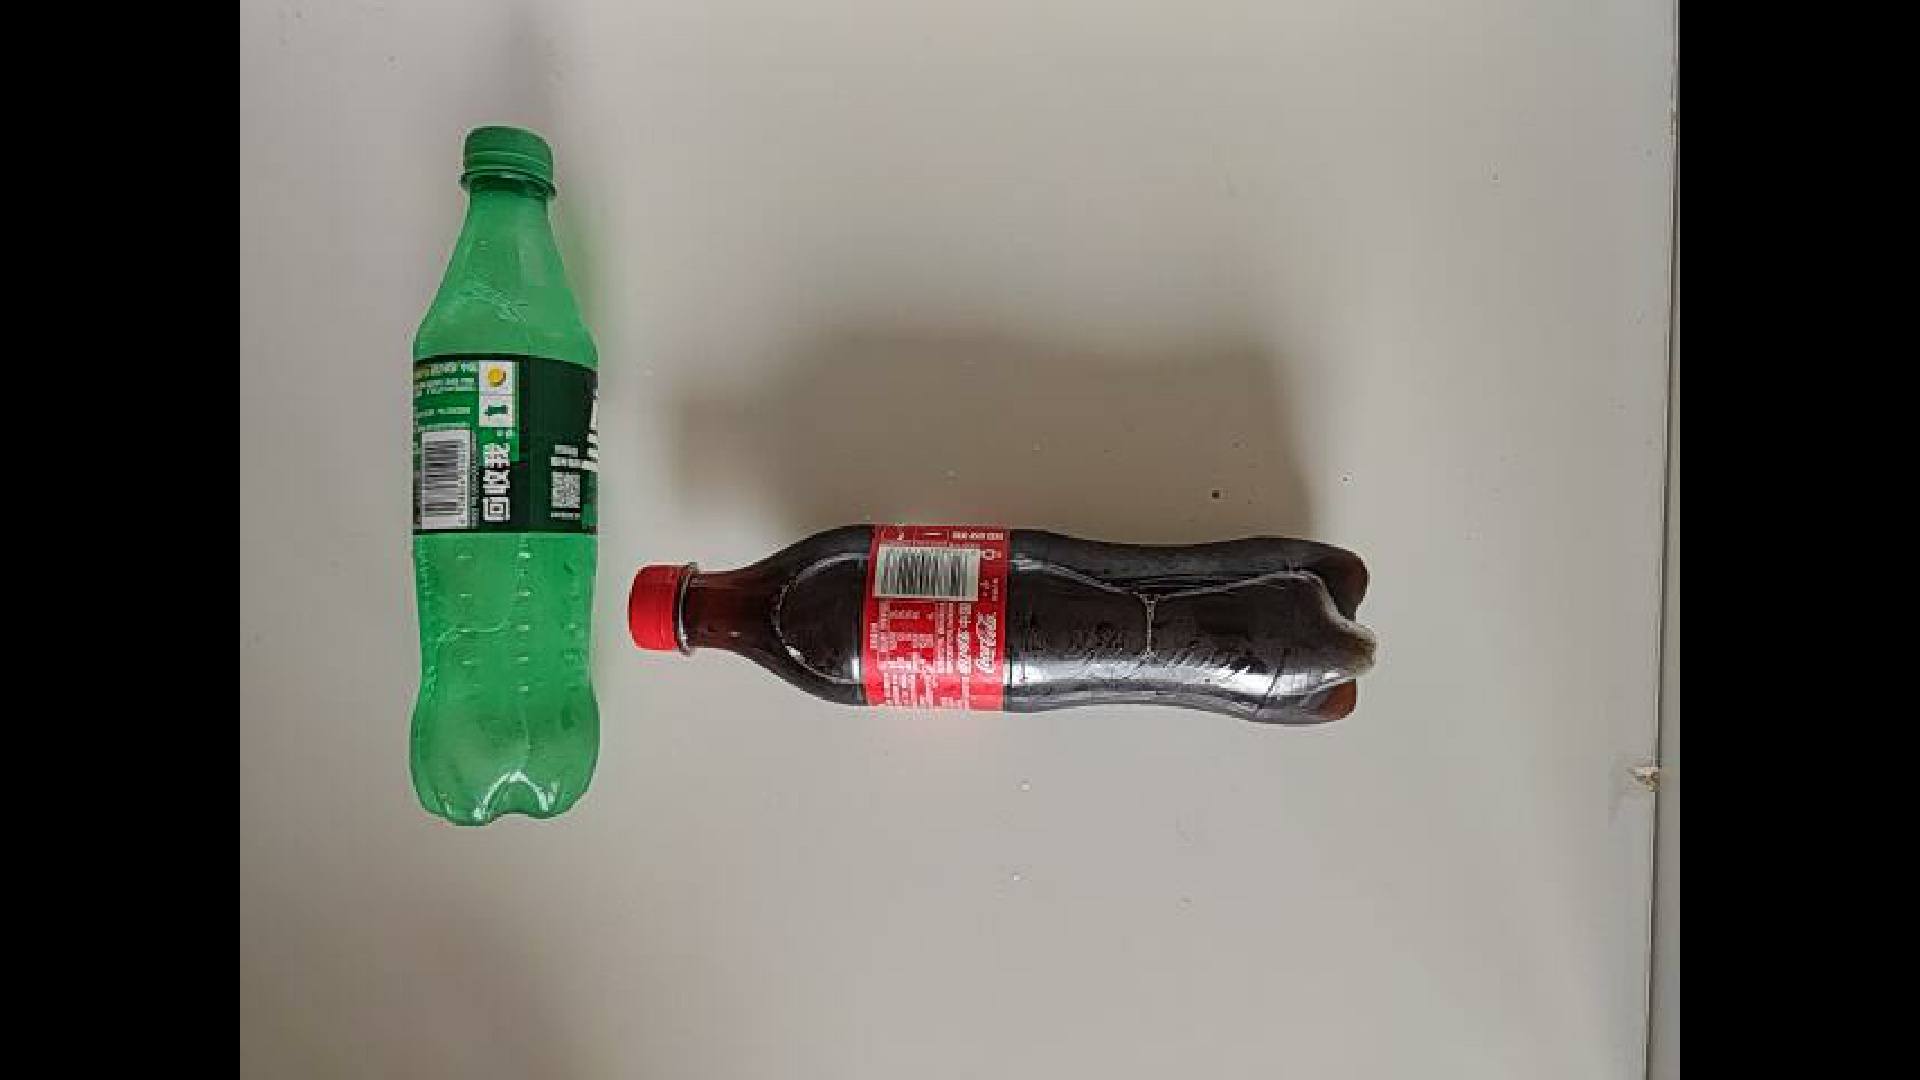cola: (617, 506, 1383, 717)
sprite: (406, 121, 603, 829)
